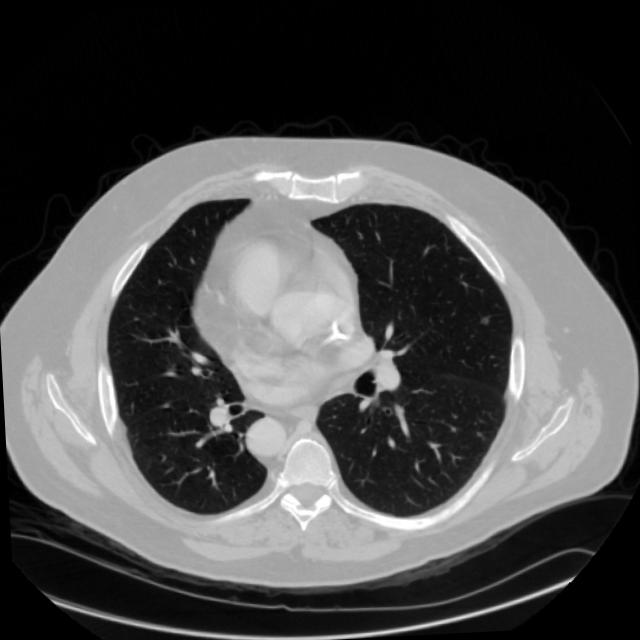nodule: (478, 312, 494, 328)
